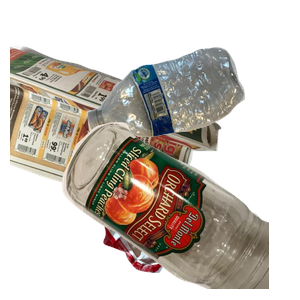glass: (60, 120, 300, 300)
paper: (10, 42, 224, 222)
plastic: (85, 45, 300, 175)
trash: (74, 167, 235, 300)
